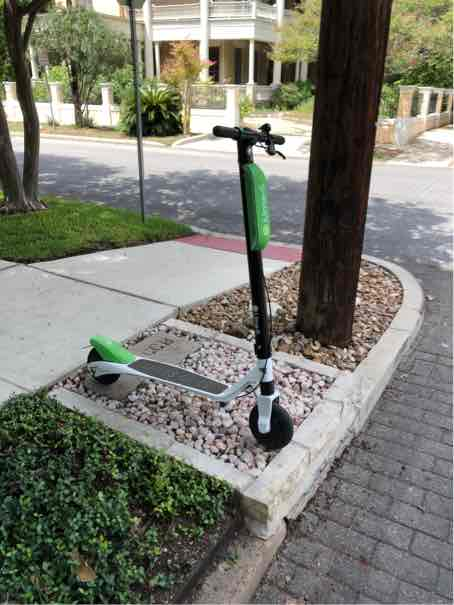scooter: (72, 131, 303, 447)
